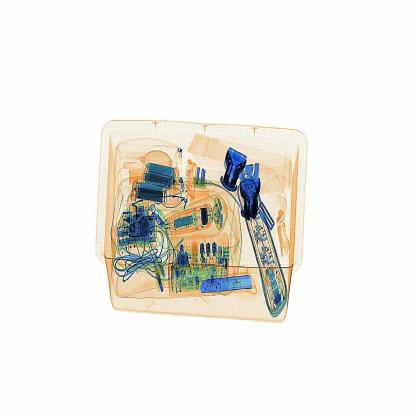pliers: (196, 264, 258, 300)
